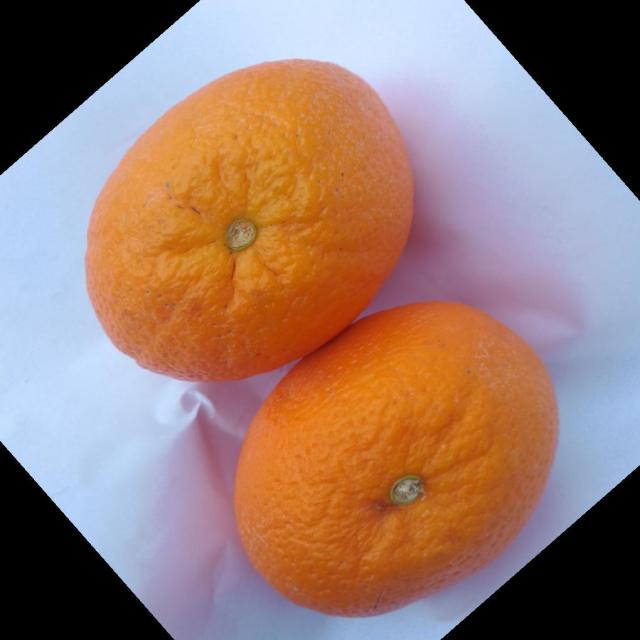fresh orange: (83, 56, 416, 382), (232, 299, 559, 618)
